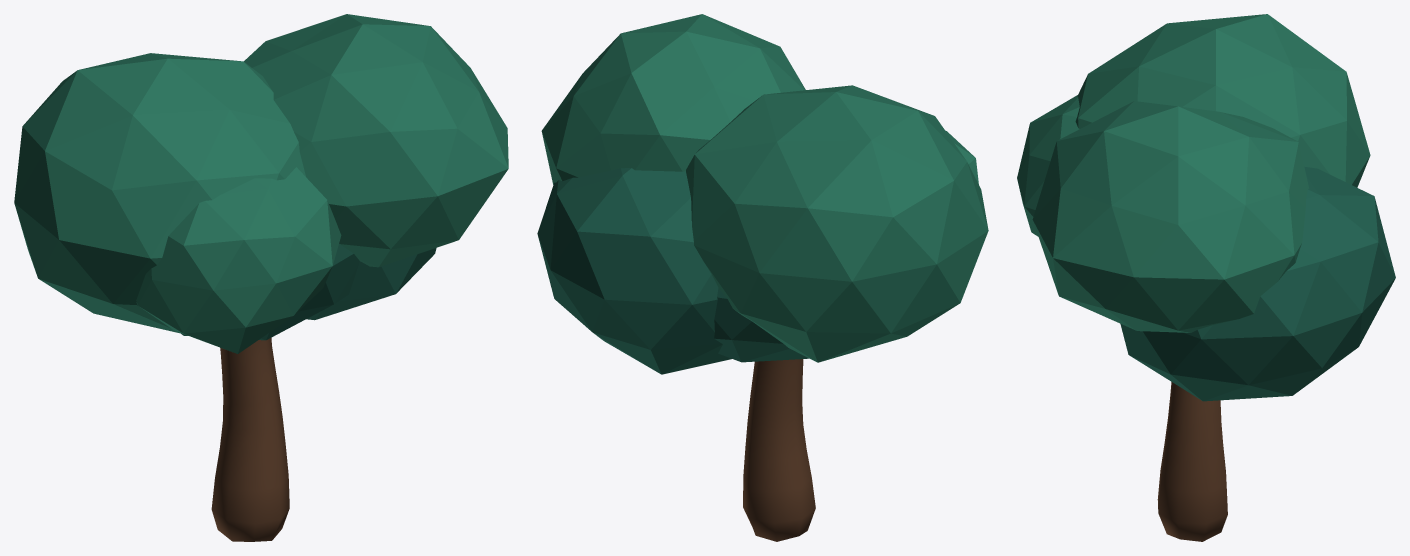
Rendered from tree_1.glb.
The picture shows the model from 3 angles, left to right: view 1: azimuth 30°, elevation 25°; view 2: azimuth 150°, elevation 25°; view 3: azimuth 270°, elevation 25°; orthographic projection. The views are drawn at different scales.
Visible parts, largest first — view 1: Tree1; view 2: Tree1; view 3: Tree1.
Boxes of the visible parts, x1,y1,x2,y2 form: Tree1: (14, 14, 508, 541); Tree1: (537, 14, 988, 541); Tree1: (1017, 14, 1395, 541).
Size of the model in its own units: 3.57 by 3.88 by 2.77.
